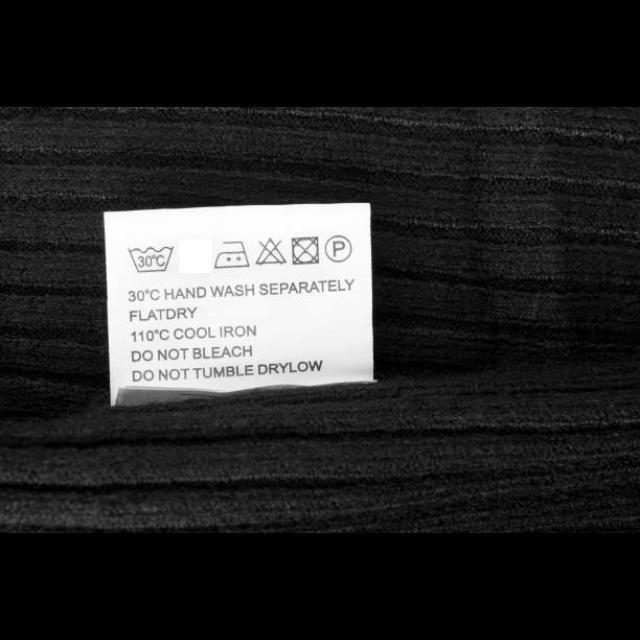30C: (126, 244, 174, 274)
DN_bleach: (254, 236, 288, 268)
DN_tumble_dry: (290, 236, 320, 266)
iron_medium: (213, 240, 251, 270)
normal_dry_clean_solvents: (324, 233, 354, 265)
